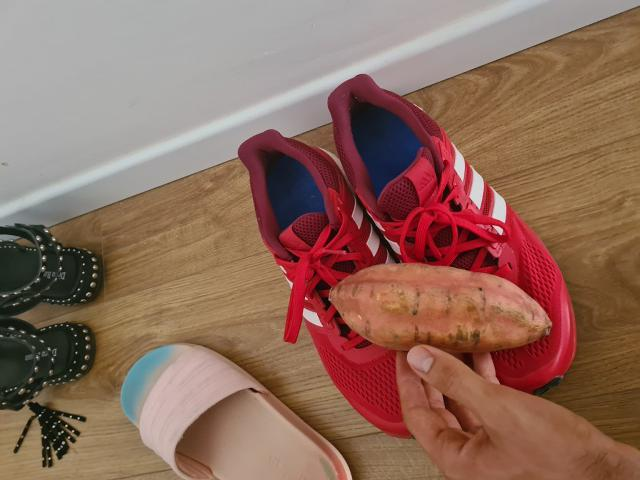sweet_potato: (328, 261, 551, 352)
